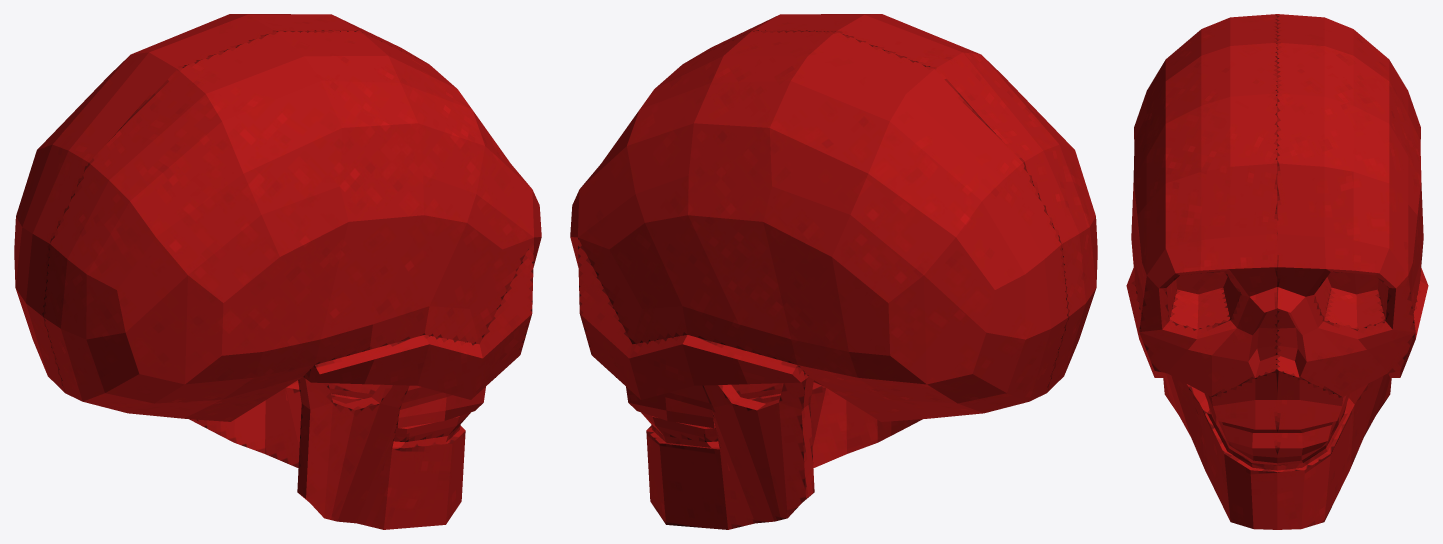
File: Skull.fbx
3 views of the same model, side by side, from view 1: azimuth 30°, elevation 25°; view 2: azimuth 150°, elevation 25°; view 3: azimuth 270°, elevation 25° (orthographic). The views are drawn at different scales.
Visible parts, largest first — view 1: Hostile_Skull, Hostile_Jaw; view 2: Hostile_Skull, Hostile_Jaw; view 3: Hostile_Skull, Hostile_Jaw.
Part boxes in pixels (x1,y1,x2,y2): Hostile_Skull: (14,14,541,428); Hostile_Jaw: (189,377,470,529); Hostile_Skull: (570,14,1097,428); Hostile_Jaw: (641,377,922,529); Hostile_Skull: (1126,14,1428,457); Hostile_Jaw: (1163,373,1391,529).
Size of the model in its own units: 72.14 by 79.17 by 51.36.
Materials: 1 (1 with a texture image).
